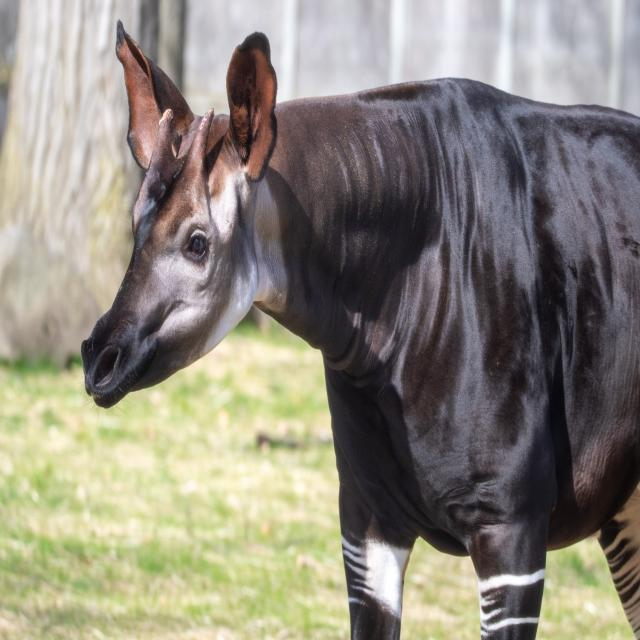Okapi: (81, 22, 640, 640)
